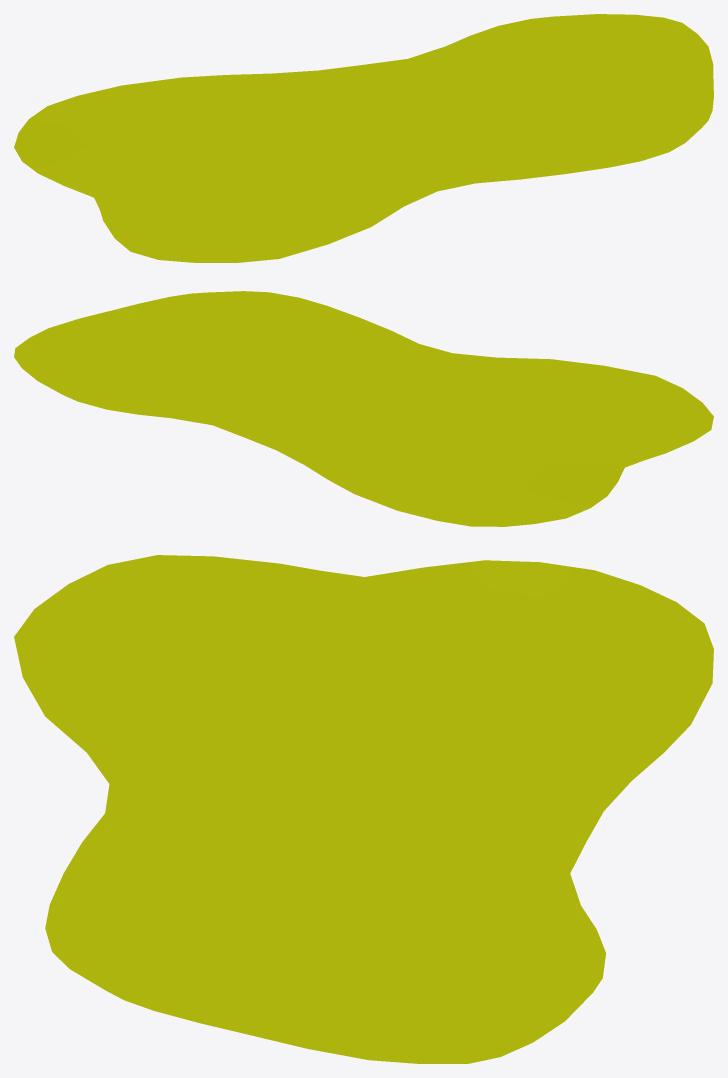
The model's file is smoothinnerground_old.fbx.
3 views of the same model, one above another, from view 1: azimuth 30°, elevation 25°; view 2: azimuth 150°, elevation 25°; view 3: azimuth 270°, elevation 25° (orthographic). The views are drawn at different scales.
Visible parts, largest first — view 1: polySurface15; view 2: polySurface15; view 3: polySurface15.
Part boxes in pixels (left/top/right/bottom): polySurface15: left=14, top=14, right=713, bottom=262; polySurface15: left=14, top=291, right=713, bottom=526; polySurface15: left=14, top=555, right=713, bottom=1063.
Size of the model in its own units: 19.82 by 0.043 by 11.52.
